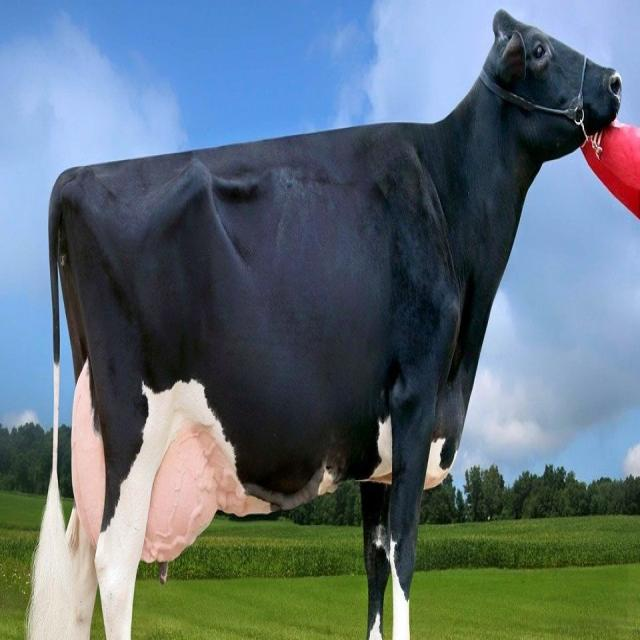cow: (66, 101, 554, 540)
